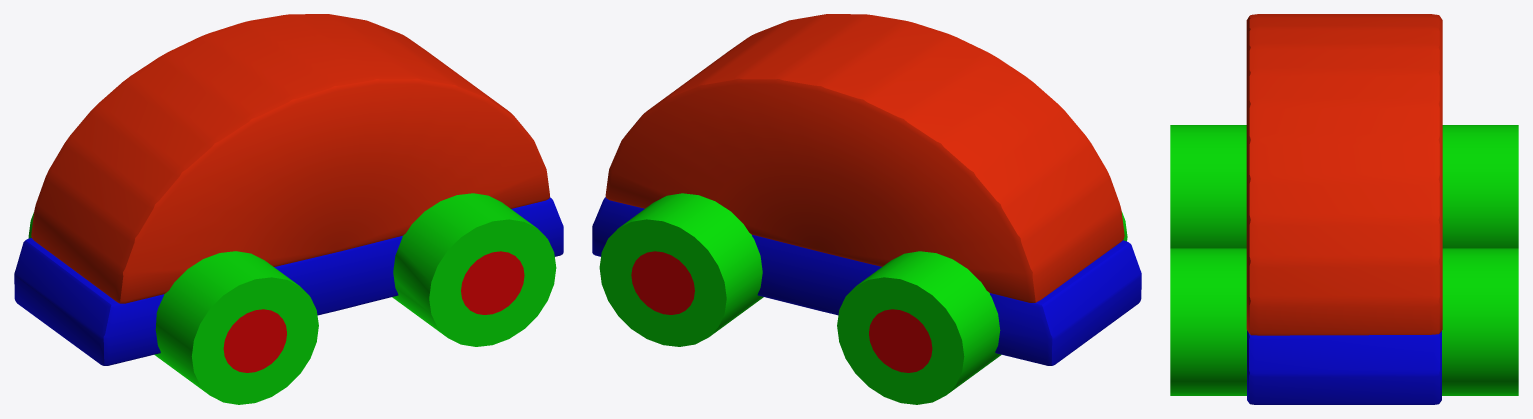
The model's file is 2N_Coche.fbx.
The picture shows the model from 3 angles, left to right: view 1: azimuth 30°, elevation 25°; view 2: azimuth 150°, elevation 25°; view 3: azimuth 270°, elevation 25°; orthographic projection. The views are drawn at different scales.
Visible parts, largest first — view 1: EXP_Coche001; view 2: EXP_Coche001; view 3: EXP_Coche001.
Part boxes in pixels (<box>): EXP_Coche001: <box>14,14,563,404</box>; EXP_Coche001: <box>592,14,1141,404</box>; EXP_Coche001: <box>1170,14,1518,404</box>.
Size of the model in its own units: 68.2 by 36.88 by 41.7.
